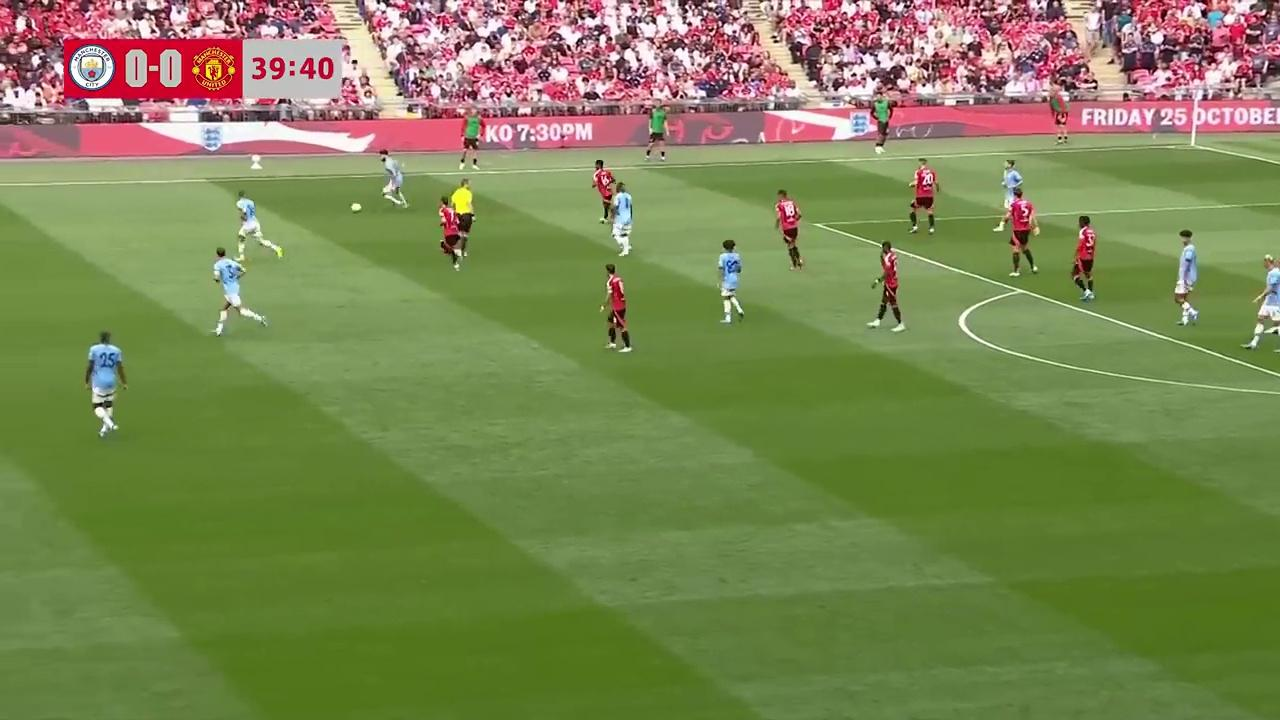ball: (350, 199, 363, 213)
player: (84, 329, 122, 438), (867, 241, 906, 331), (1244, 264, 1280, 351), (212, 247, 247, 334), (599, 263, 632, 352), (236, 190, 279, 258), (1004, 193, 1039, 275), (907, 158, 940, 235), (775, 190, 804, 270), (1174, 230, 1198, 326), (717, 239, 744, 324), (1071, 215, 1096, 300), (438, 197, 462, 269), (611, 181, 633, 256), (592, 159, 616, 224), (380, 153, 408, 208), (1000, 159, 1023, 219)
referee: (448, 177, 475, 251)
